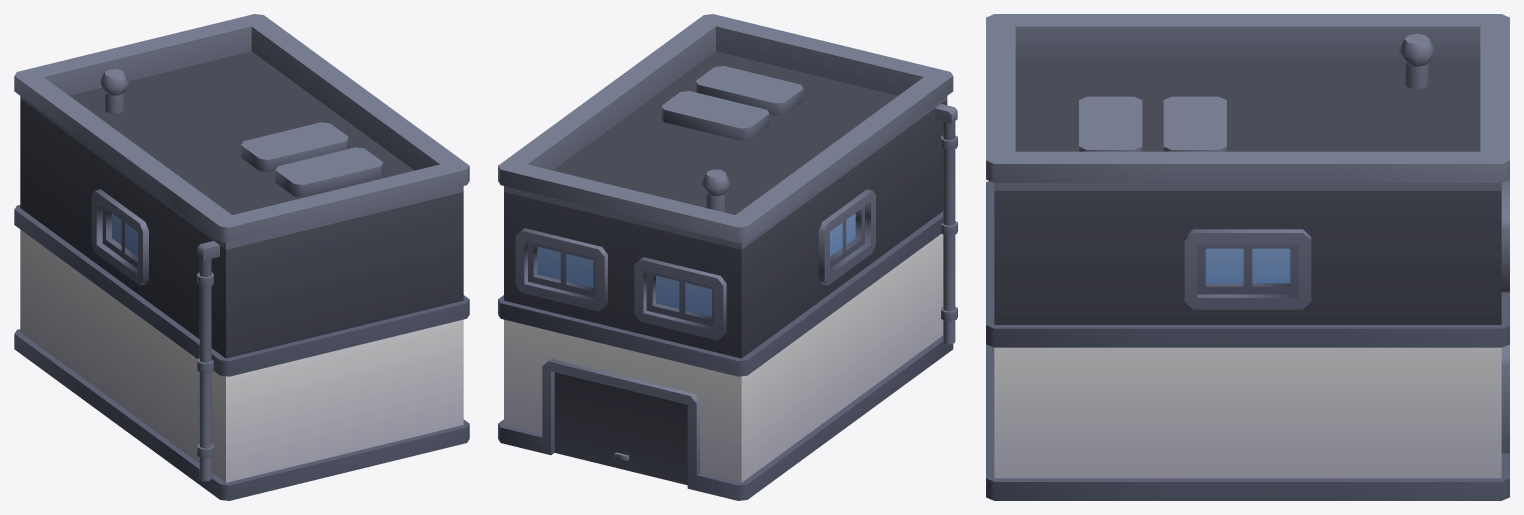
Rendered from kenney-city-industrial-building-o.glb.
3 renders of one model, left to right at view 1: azimuth 30°, elevation 25°; view 2: azimuth 150°, elevation 25°; view 3: azimuth 270°, elevation 25°, orthographic. The views are drawn at different scales.
Visible parts, largest first — view 1: building-o; view 2: building-o; view 3: building-o.
Boxes of the visible parts, box(x1,y1,x2,y2) form: building-o: box(14, 14, 469, 500); building-o: box(498, 14, 957, 500); building-o: box(986, 14, 1509, 500).
Size of the model in its own units: 0.8836 by 0.918 by 1.24.
1 material, 1 textured.
